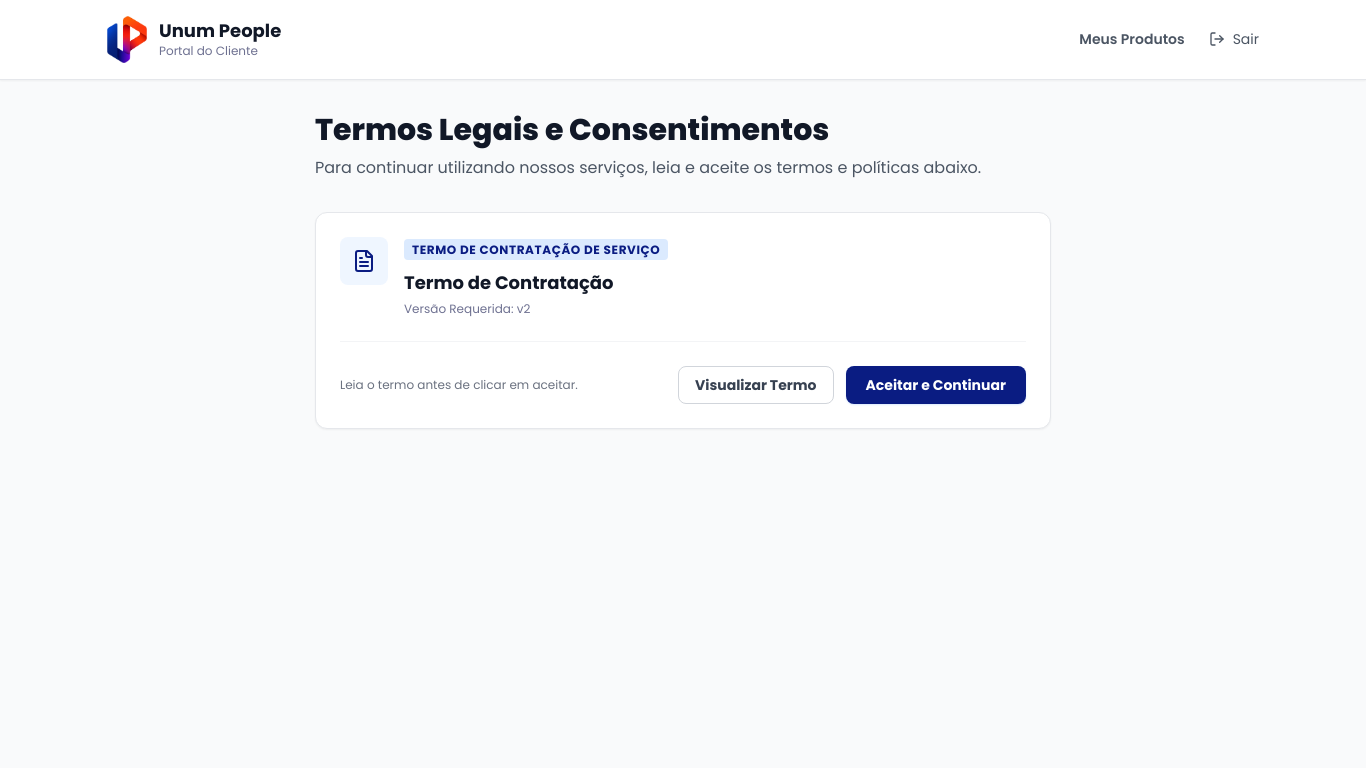
Test: Termos: recusa por permissão › 403 com portal.contrato.aceitar mostra a mensagem de permissão, não o código da API
The image size is (1366, 768).
Click the button "Aceitar e Continuar" at [936, 385], box [846,366,1026,404]
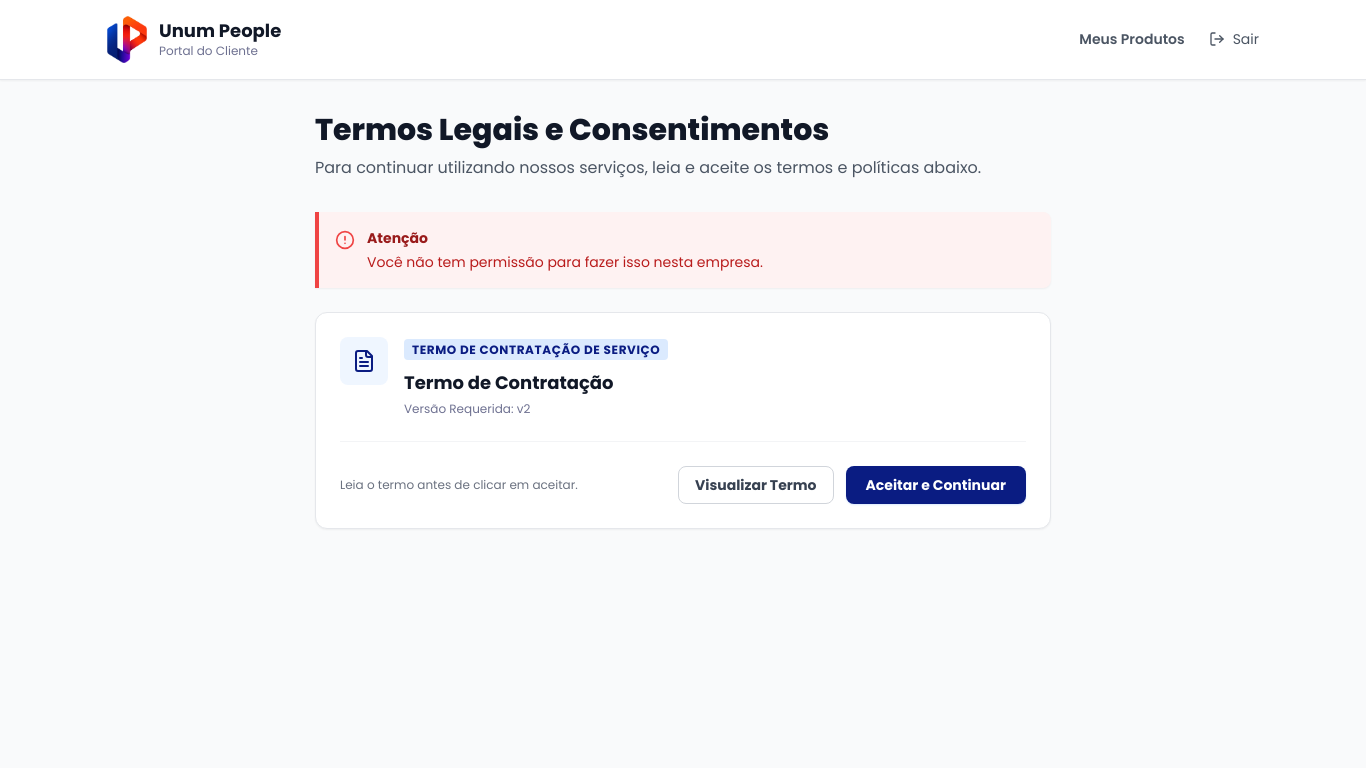
Check: the text "Você não tem permissão para fazer isso nesta empresa." is shown, box [367,252,763,272]
